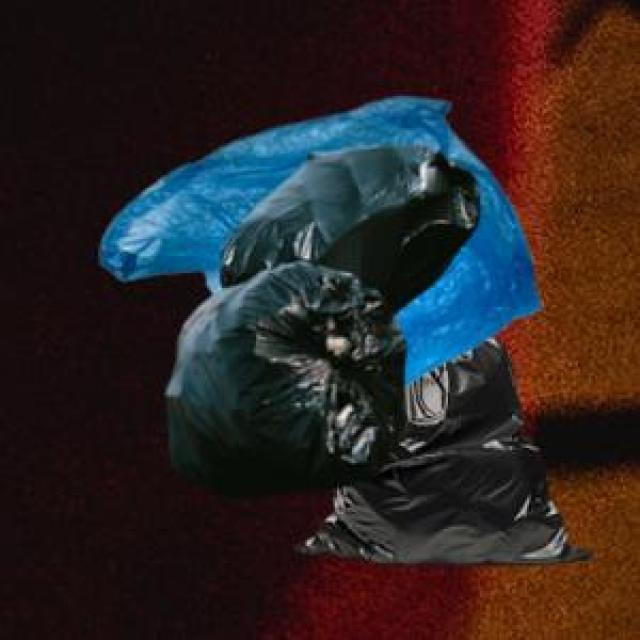miscellaneous trash: (162, 141, 476, 493), (292, 331, 591, 561)
